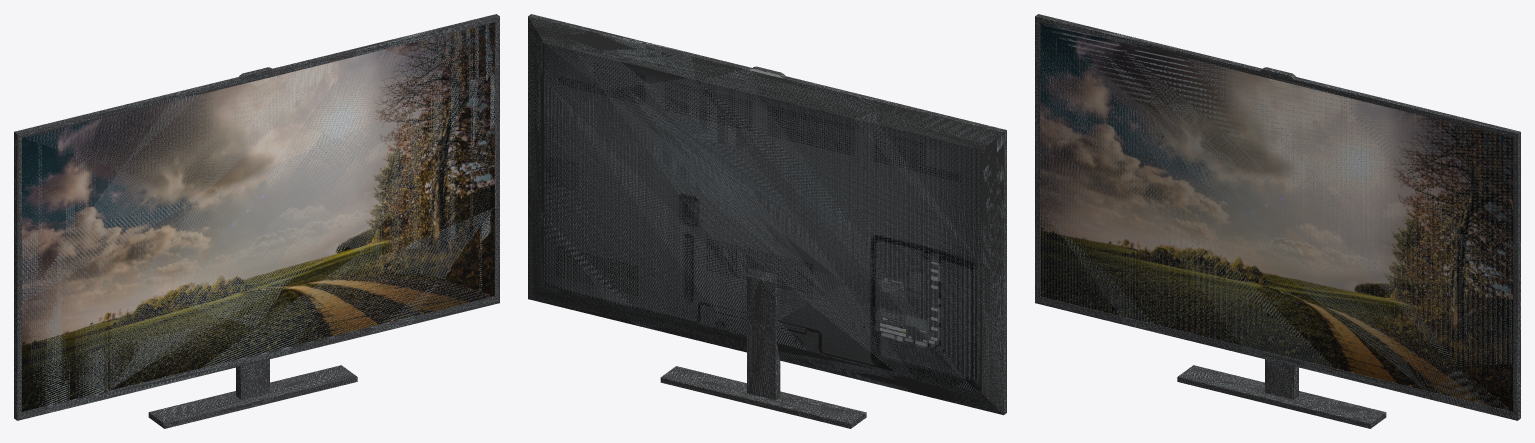
The model's file is video_frame2.dae.
3 renders of one model, left to right at view 1: azimuth 30°, elevation 25°; view 2: azimuth 150°, elevation 25°; view 3: azimuth 330°, elevation 25°, orthographic.
Parts seen in each view (by area): view 1: group_0 (×3), SketchUp (×2); view 2: group_0 (×2), SketchUp (×2); view 3: group_0 (×3), SketchUp (×2).
Part boxes in pixels (x1,y1,x2,y2): group_0 (×3): [14, 14, 499, 420]; SketchUp (×2): [148, 359, 357, 428]; group_0 (×2): [528, 14, 1006, 415]; SketchUp (×2): [660, 276, 866, 428]; group_0 (×3): [1035, 14, 1520, 420]; SketchUp (×2): [1177, 359, 1386, 428].
Bounding box in the file's own units: 0.7518 × 0.0431 × 0.4928.
Materials: 5 (2 with a texture image).
